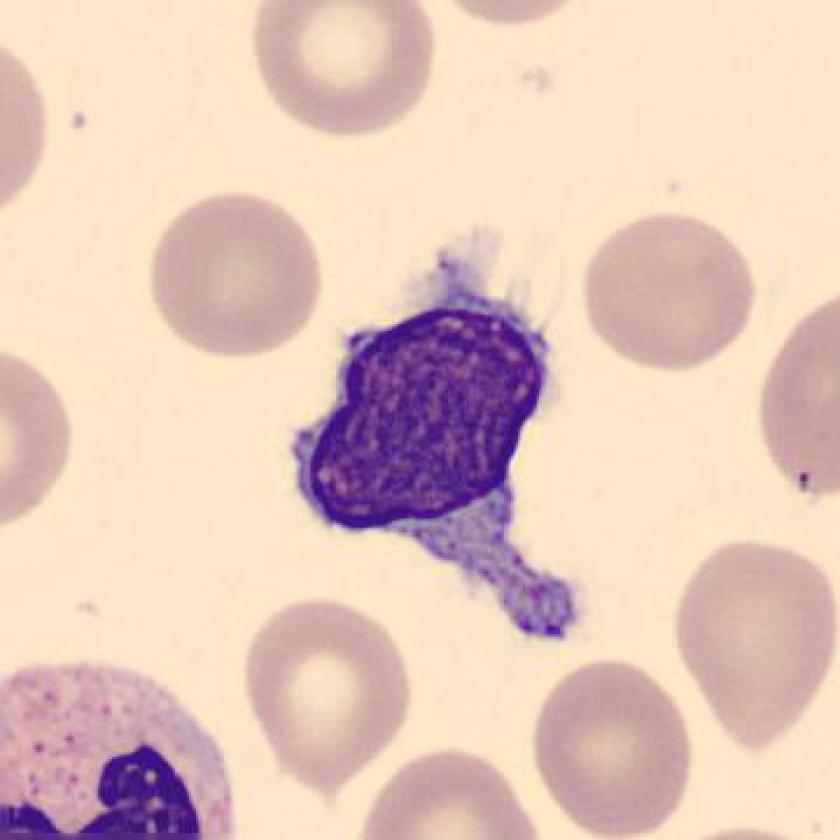lymphocyte: (277, 211, 606, 656)
